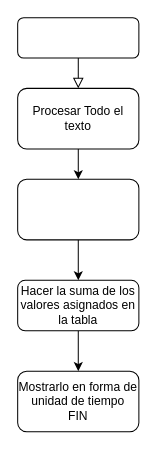
The diagram is 157 pixels wide and 449 high, and some of its shapes have lost their labels. The shapes that lost their labels are listed below. From the top down, each one's centre as x and y in pixels, then its label:
At pixel 78 37: "Ingresar Codigo".
At pixel 78 209: "Comparar cada caracter con una tabla preestablecida".
